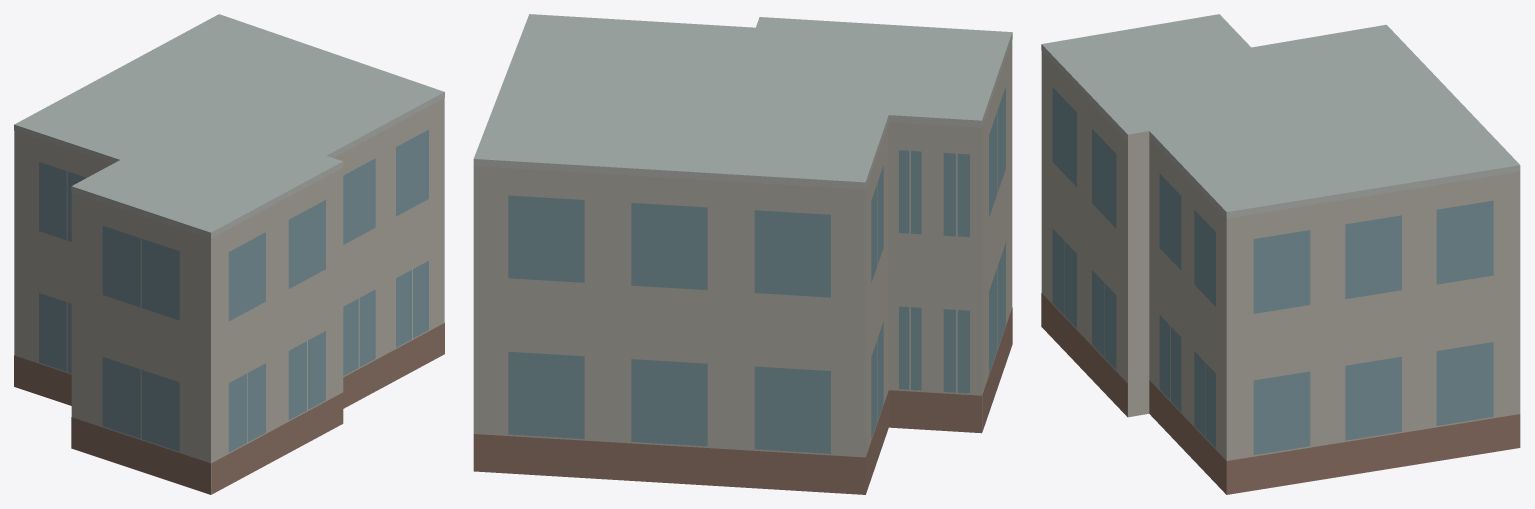
File: survey-upis-32474190.glb
3 renders of one model, left to right at view 1: azimuth 30°, elevation 25°; view 2: azimuth 150°, elevation 25°; view 3: azimuth 270°, elevation 25°, orthographic. The views are drawn at different scales.
Visible parts, largest first — view 1: survey-upis-32474190.tmp; view 2: survey-upis-32474190.tmp; view 3: survey-upis-32474190.tmp.
Part boxes in pixels (<box>): survey-upis-32474190.tmp: <box>14,14,444,494</box>; survey-upis-32474190.tmp: <box>473,14,1012,494</box>; survey-upis-32474190.tmp: <box>1041,14,1520,494</box>.
Bounding box in the file's own units: 16.05 × 10.67 × 16.39.
